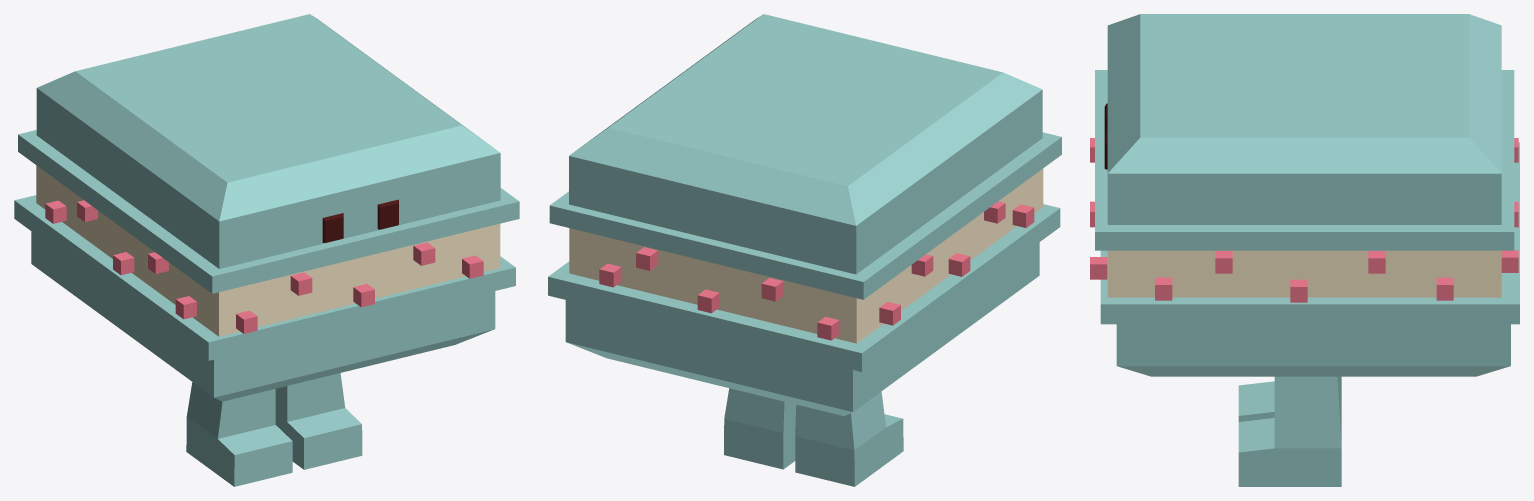
The model's file is st1_block8.fbx.
3 views of the same model, side by side, from view 1: azimuth 30°, elevation 25°; view 2: azimuth 150°, elevation 25°; view 3: azimuth 270°, elevation 25° (orthographic). The views are drawn at different scales.
Parts seen in each view (by area): view 1: st1_block8_head, st1_block8_down, st1_block8_middle, st1_block8_L_leg, st1_block4_R_leg, st1_block8_box, st1_block8_R_eye_, st1_block8_L_eye_; view 2: st1_block8_head, st1_block8_down, st1_block8_middle, st1_block8_L_leg, st1_block4_R_leg, st1_block8_box; view 3: st1_block8_head, st1_block8_down, st1_block8_middle, st1_block4_R_leg, st1_block8_box, st1_block8_L_leg.
Boxes of the visible parts, x1,y1,x2,y2 form: st1_block8_head: [18, 14, 519, 293]; st1_block8_down: [14, 195, 515, 401]; st1_block8_middle: [36, 165, 500, 336]; st1_block8_L_leg: [186, 382, 292, 486]; st1_block4_R_leg: [275, 373, 362, 469]; st1_block8_box: [45, 200, 483, 333]; st1_block8_R_eye_: [377, 199, 398, 229]; st1_block8_L_eye_: [322, 213, 343, 242]; st1_block8_head: [549, 14, 1061, 299]; st1_block8_down: [548, 204, 1060, 416]; st1_block8_middle: [569, 168, 1043, 343]; st1_block8_L_leg: [795, 391, 903, 486]; st1_block4_R_leg: [724, 388, 796, 469]; st1_block8_box: [599, 201, 1034, 340]; st1_block8_head: [1095, 14, 1514, 250]; st1_block8_down: [1100, 142, 1519, 376]; st1_block8_middle: [1107, 250, 1501, 297]; st1_block4_R_leg: [1238, 376, 1341, 486]; st1_block8_box: [1090, 138, 1518, 302]; st1_block8_L_leg: [1238, 376, 1341, 421].
Bounding box in the file's own units: 448 × 485 × 499.
1 material, 1 textured.
